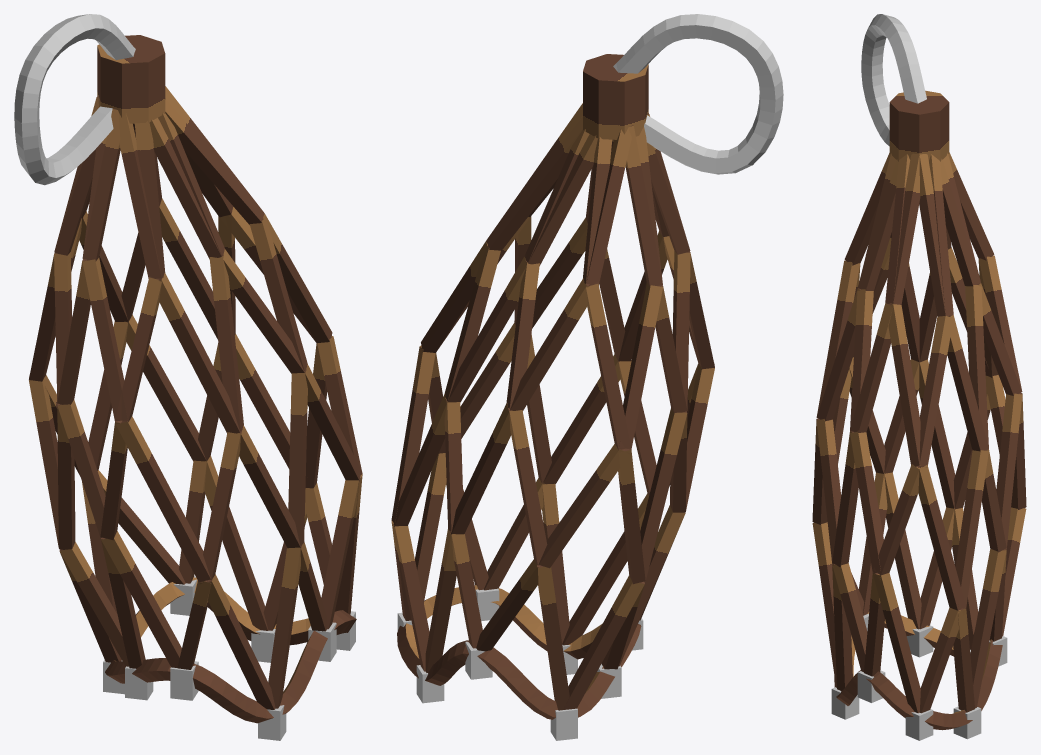
File: spawn_casting_net.obj
3 renders of one model, left to right at view 1: azimuth 30°, elevation 25°; view 2: azimuth 150°, elevation 25°; view 3: azimuth 270°, elevation 25°, orthographic. The views are drawn at different scales.
Parts seen in each view (by area): view 1: mesh, cord, weighted_hem, weights; view 2: mesh, cord, weighted_hem, weights; view 3: mesh, cord, weighted_hem, weights.
Part boxes in pixels (box(x1,y1,x2,y2)): mesh: box(29, 86, 362, 709); cord: box(14, 14, 165, 185); weighted_hem: box(105, 577, 356, 723); weights: box(103, 576, 355, 740); mesh: box(391, 103, 714, 710); cord: box(583, 14, 783, 174); weighted_hem: box(397, 585, 641, 719); weights: box(397, 583, 643, 740); mesh: box(812, 152, 1026, 713); cord: box(861, 14, 949, 161); weighted_hem: box(834, 612, 1002, 730); weights: box(831, 613, 1007, 740).
Size of the model in its own units: 0.4355 by 0.8389 by 0.2613.
